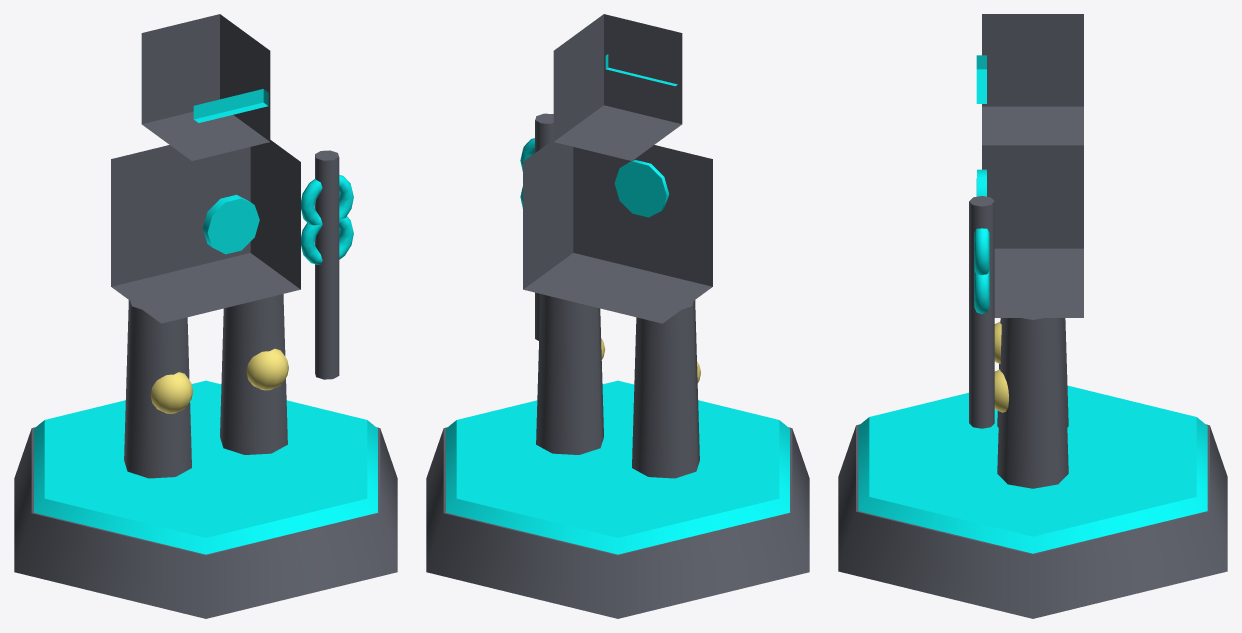
File: pawn.glb
The picture shows the model from 3 angles, left to right: view 1: azimuth 30°, elevation 25°; view 2: azimuth 150°, elevation 25°; view 3: azimuth 270°, elevation 25°; orthographic projection.
Parts seen in each view (by area): view 1: pawn; view 2: pawn; view 3: pawn.
Boxes of the visible parts, box(x1,y1,x2,y2) form: pawn: box(14, 14, 397, 618); pawn: box(426, 14, 809, 618); pawn: box(838, 14, 1227, 618).
Bounding box in the file's own units: 0.88 × 1.06 × 0.7621.
